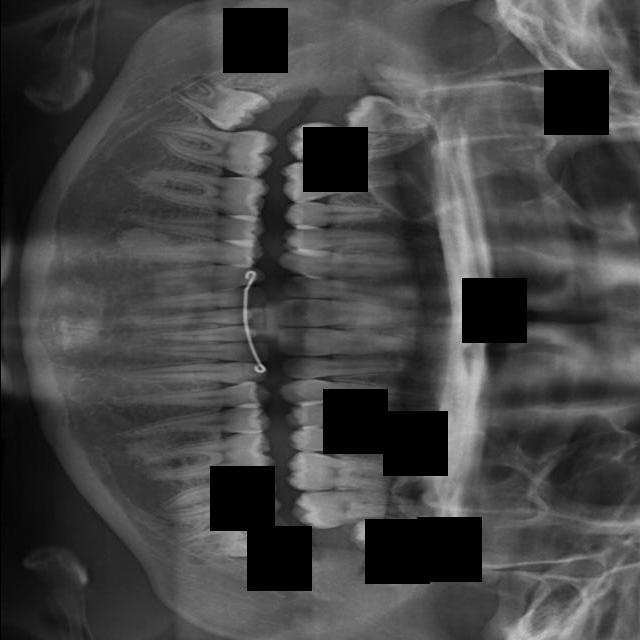3M ESPE Implant: (341, 92, 445, 133)
AGS Medikal Implant: (155, 473, 284, 523)
AMerOss Implant: (139, 430, 277, 482)
Amalgam filling: (283, 122, 432, 164)
Anthogyr Implant: (122, 406, 273, 440)
Bicon Implant: (116, 383, 274, 415)
BioHorizons Implant: (122, 362, 268, 384)
BioLife Implant: (148, 343, 270, 362)
Biomet 3i Implant: (135, 324, 269, 343)
Blue Sky Bio Implant: (143, 307, 266, 326)
Camlog Implant: (125, 285, 269, 312)
Caries: (280, 356, 427, 379)
Composite filling: (132, 260, 266, 298)
Cowellmedi Implant: (142, 235, 266, 267)
Crown: (126, 203, 267, 245)
DENTSPLY Implant: (278, 153, 404, 203)
Dentatus Implant: (147, 182, 148, 183)
Dentis Implant: (165, 133, 210, 151)
Dentium Implant: (162, 65, 274, 142)
Euroteknika Implant: (282, 200, 386, 228)
Filling: (281, 227, 400, 253)
Frontier Implant: (278, 252, 421, 278)
Hiossen Implant: (279, 377, 440, 404)
Implant: (271, 297, 431, 327)
Implant Direct: (281, 274, 415, 309)
Keystone Dental Implant: (277, 326, 424, 356)
MIS Implant: (283, 399, 414, 429)
Mandible: (286, 427, 411, 454)
Maxilla: (286, 452, 408, 492)
Megagen Implant: (288, 485, 428, 532)
Neodent Implant: (348, 518, 442, 557)
Neoss Implant: (165, 512, 278, 569)
